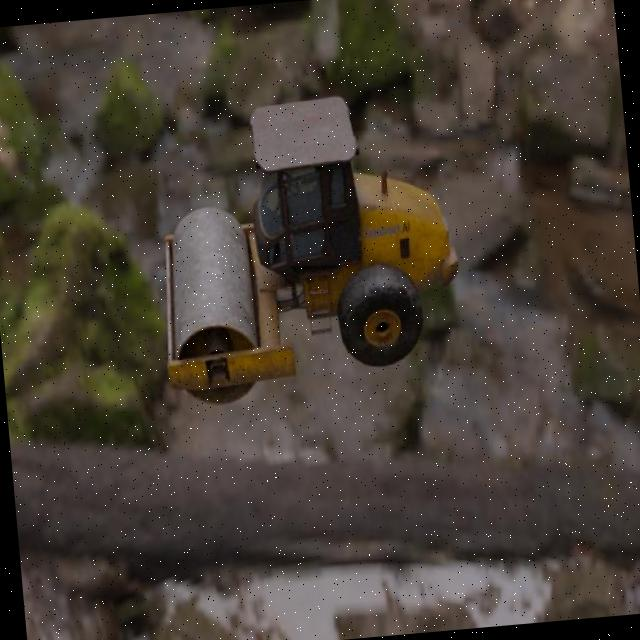Roller: (144, 86, 467, 409)
